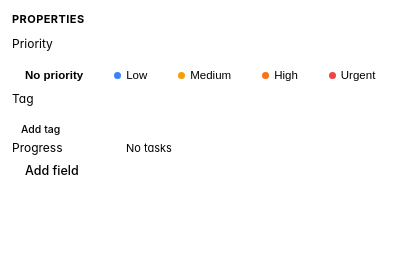
it: KanbanCardProperties tag picker › renders the tag picker outside a clipped properties popover and focuses its search input
This screenshot has width=393, height=268.
Click the button with class "km-add-tag-pill-btn": {"x": 41, "y": 129} x1=12 y1=118 x2=69 y2=140
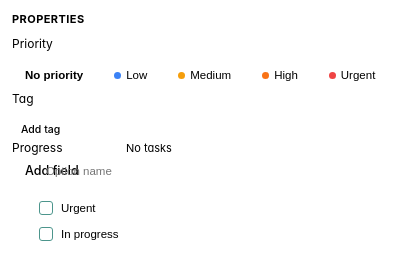
Now the element with class "km-tags-dropdown" is shown, box x1=29 y1=151 x2=239 y2=251
